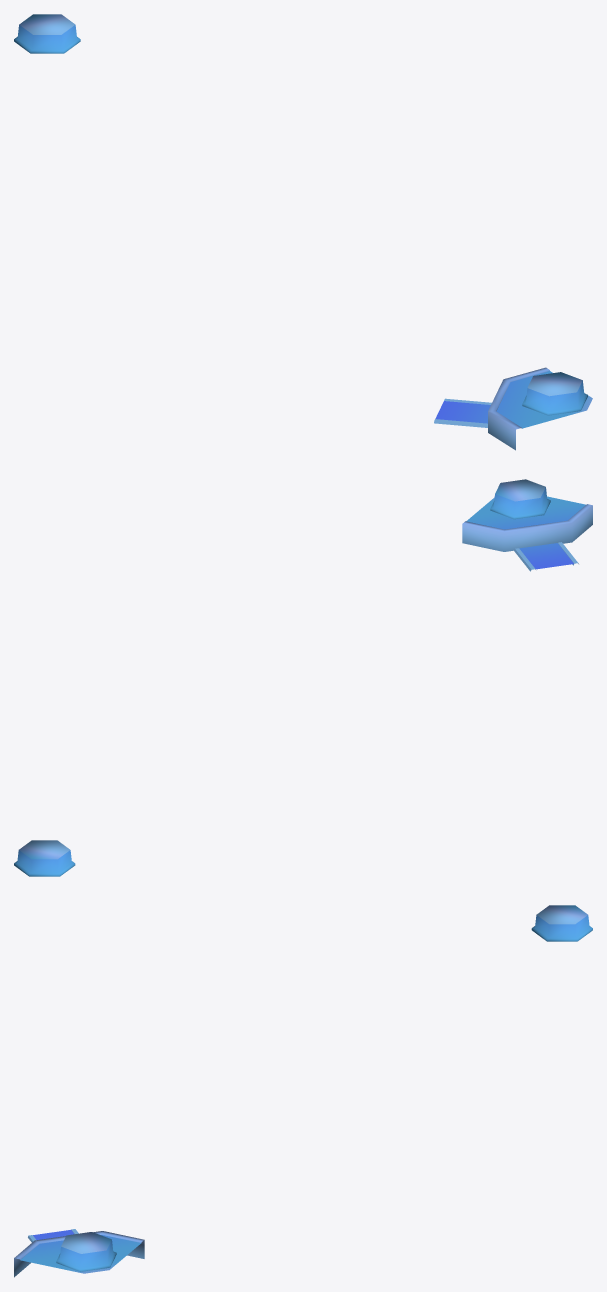
File: Area_10_6.fbx
3 renders of one model, top to bottom at view 1: azimuth 30°, elevation 25°; view 2: azimuth 150°, elevation 25°; view 3: azimuth 330°, elevation 25°, orthographic. The views are drawn at different scales.
Parts seen in each view (by area): view 1: Area_10_6; view 2: Area_10_6; view 3: Area_10_6.
Boxes of the visible parts, x1,y1,x2,y2 form: Area_10_6: [14, 14, 592, 450]; Area_10_6: [14, 479, 592, 876]; Area_10_6: [14, 905, 592, 1277].
Bounding box in the file's own units: 814 × 236 × 6249.
